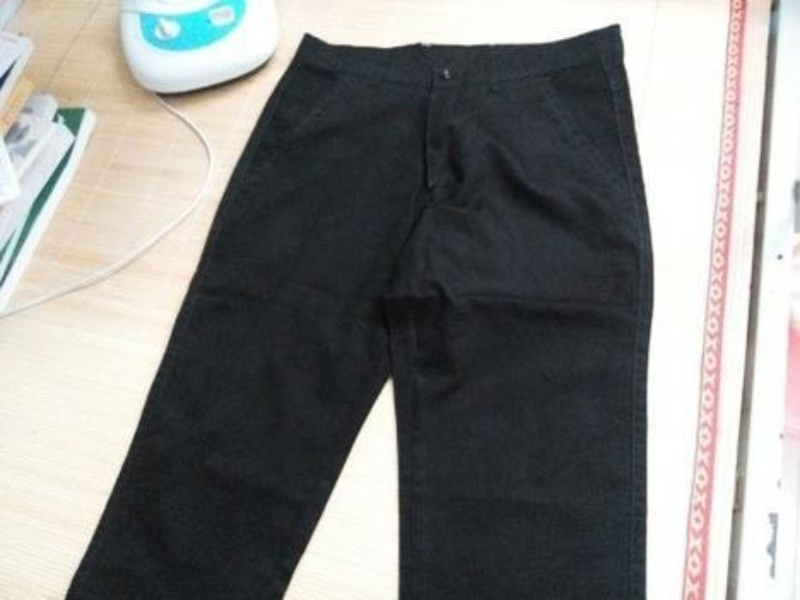trousers: (56, 21, 696, 598)
